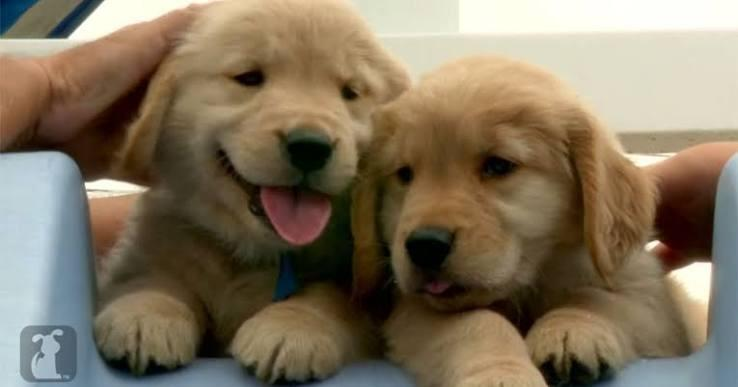puppy-dog: (84, 1, 415, 382), (350, 52, 705, 385)
